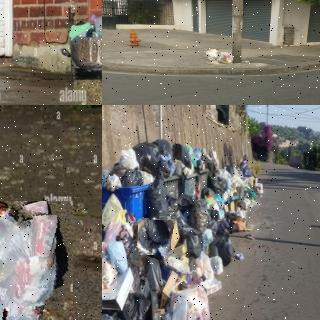Garbage: (0, 192, 78, 320), (163, 280, 210, 320), (137, 219, 173, 256), (109, 290, 149, 320), (142, 178, 167, 221), (133, 141, 159, 172), (216, 235, 233, 263), (217, 52, 233, 65), (206, 49, 219, 60)
